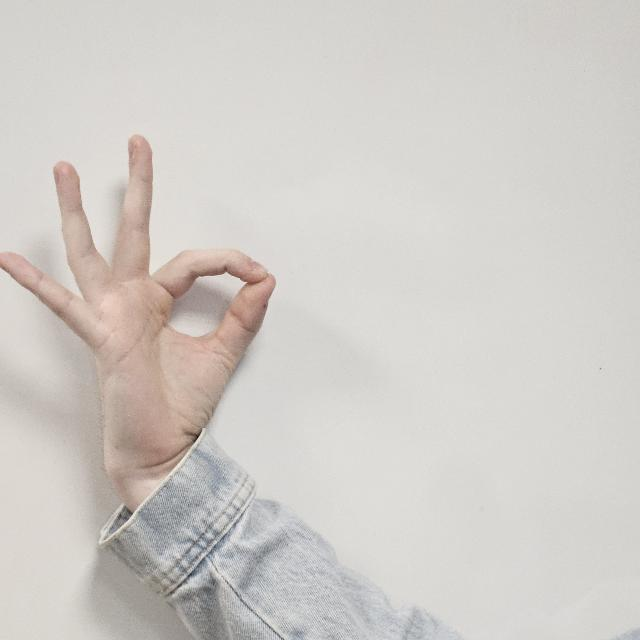Bolinha: (1, 136, 289, 458)
